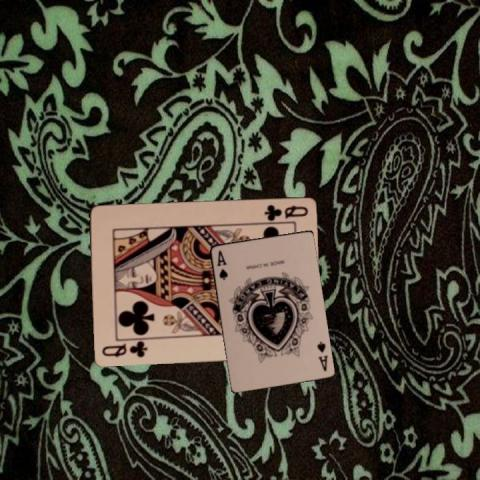As: (314, 338, 329, 373), (214, 247, 229, 281)
Qc: (262, 202, 310, 223), (98, 339, 148, 359)
